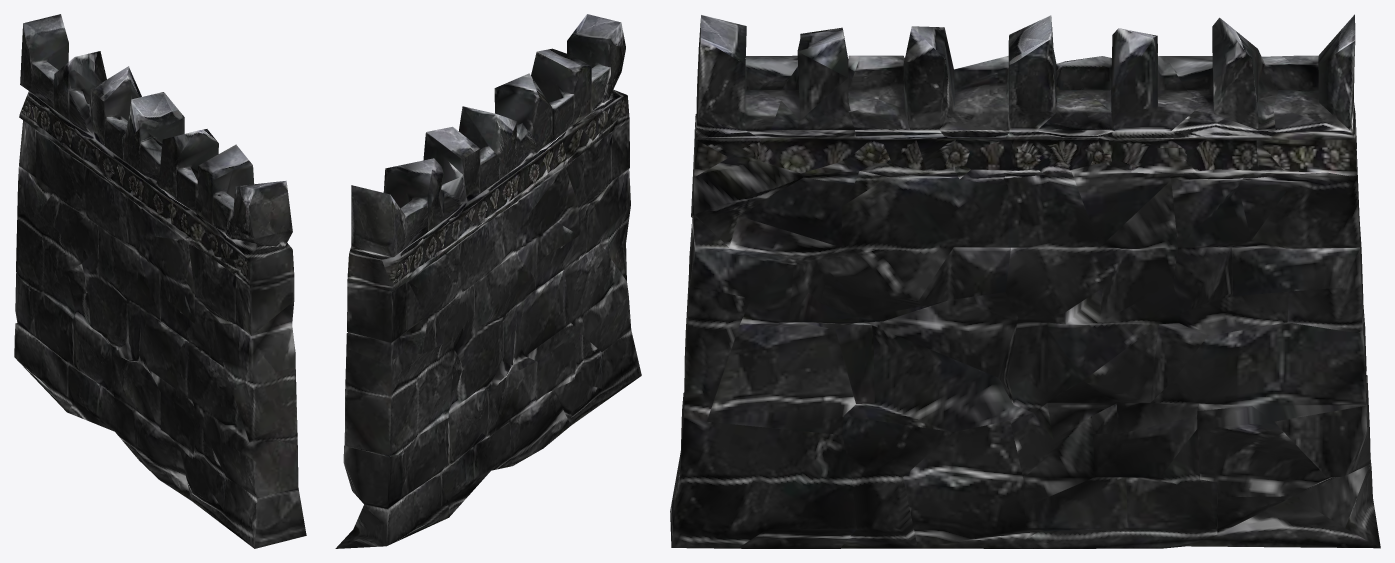
File: castle_wall_diamond_black.glb
3 views of the same model, side by side, from view 1: azimuth 30°, elevation 25°; view 2: azimuth 150°, elevation 25°; view 3: azimuth 270°, elevation 25° (orthographic). The views are drawn at different scales.
Visible parts, largest first — view 1: tripo_node_598d3892-e960-4b4c-a166-150d45067cd7; view 2: tripo_node_598d3892-e960-4b4c-a166-150d45067cd7; view 3: tripo_node_598d3892-e960-4b4c-a166-150d45067cd7.
Part boxes in pixels (x1,y1,x2,y2): tripo_node_598d3892-e960-4b4c-a166-150d45067cd7: (14,14,306,548); tripo_node_598d3892-e960-4b4c-a166-150d45067cd7: (335,14,641,548); tripo_node_598d3892-e960-4b4c-a166-150d45067cd7: (670,14,1380,548).
Size of the model in its own units: 0.1248 by 0.7642 by 0.9758.
Materials: 1 (1 with a texture image).
